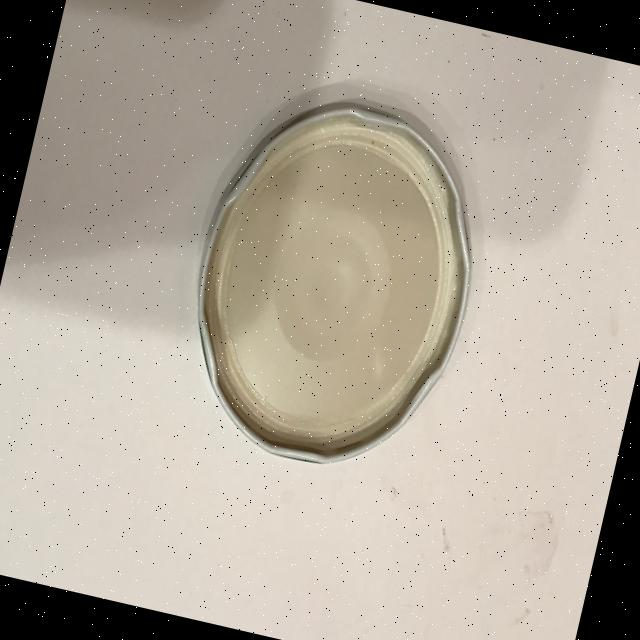metal: (159, 72, 506, 490)
